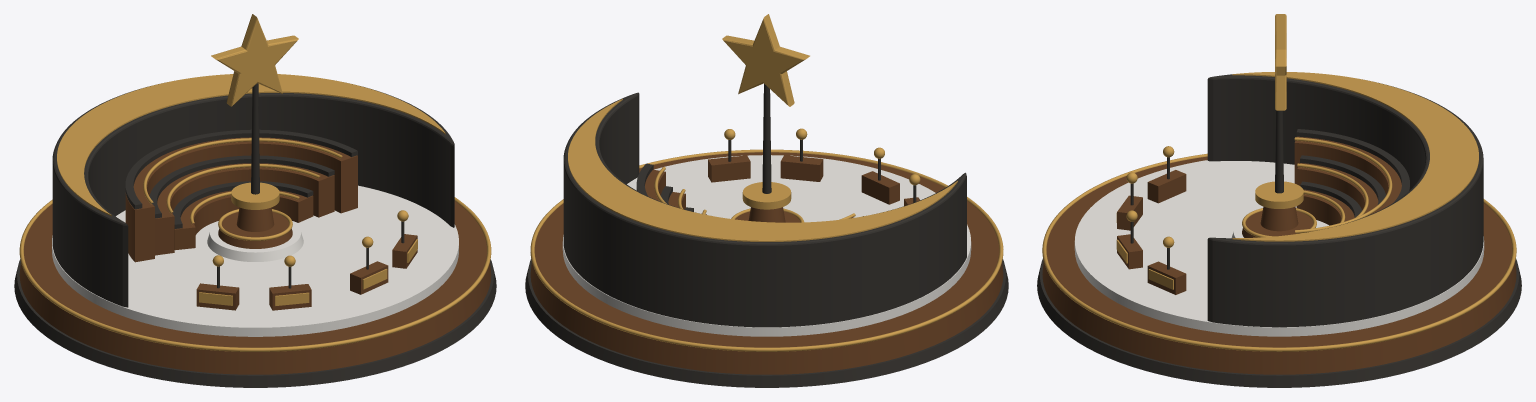
File: consultaion-chamber.glb
3 views of the same model, side by side, from view 1: azimuth 30°, elevation 25°; view 2: azimuth 150°, elevation 25°; view 3: azimuth 270°, elevation 25° (orthographic).
Parts seen in each view (by area): view 1: chamber-floor, crescent-wall, plinth, wall-capping, plinth-band, bench-tier-3, bench-tier-2, star, plinth-inlay, bench-tier-1, bench-desk-3, bench-desk-2 (+13 smaller); view 2: crescent-wall, plinth, chamber-floor, wall-capping, plinth-band, plinth-inlay, star, dais-table, voice-3-desk, voice-4-desk, voice-2-desk, star-mast (+2 smaller); view 3: crescent-wall, plinth, chamber-floor, wall-capping, plinth-band, plinth-inlay, bench-tier-3, bench-tier-2, bench-desk-3, star, bench-tier-1, dais-table (+11 smaller).
Boxes of the visible parts, x1,y1,x2,y2 form: chamber-floor: [52, 185, 458, 336]; crescent-wall: [52, 84, 454, 307]; plinth: [19, 201, 491, 374]; wall-capping: [57, 74, 445, 216]; plinth-band: [14, 259, 496, 387]; bench-tier-3: [125, 137, 357, 262]; bench-tier-2: [155, 163, 334, 255]; star: [211, 14, 298, 106]; plinth-inlay: [19, 197, 491, 351]; bench-tier-1: [174, 190, 313, 250]; bench-desk-3: [125, 129, 357, 209]; bench-desk-2: [149, 155, 334, 218]; crescent-wall: [563, 92, 966, 327]; plinth: [530, 152, 1003, 374]; chamber-floor: [562, 155, 971, 336]; wall-capping: [568, 99, 957, 241]; plinth-band: [525, 259, 1008, 387]; plinth-inlay: [530, 149, 1003, 351]; star: [722, 14, 809, 106]; dais-table: [742, 182, 791, 209]; voice-3-desk: [780, 155, 823, 181]; voice-4-desk: [708, 155, 750, 182]; voice-2-desk: [861, 171, 899, 204]; star-mast: [762, 84, 771, 193]; crescent-wall: [1207, 74, 1483, 327]; plinth: [1042, 156, 1516, 374]; chamber-floor: [1074, 160, 1484, 336]; wall-capping: [1232, 72, 1478, 241]; plinth-band: [1037, 258, 1521, 387]; plinth-inlay: [1042, 153, 1516, 351]; bench-tier-3: [1294, 136, 1401, 234]; bench-tier-2: [1297, 163, 1378, 213]; bench-desk-3: [1296, 129, 1409, 202]; star: [1275, 14, 1286, 110]; bench-tier-1: [1296, 189, 1354, 225]; dais-table: [1255, 181, 1303, 208].
Size of the model in its own units: 0.36 by 0.2225 by 0.36.
